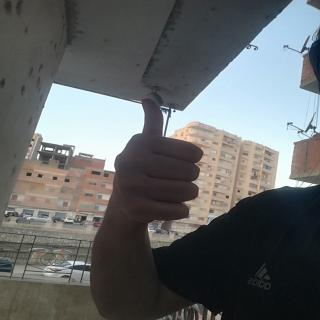ALIF: (99, 94, 213, 233)
